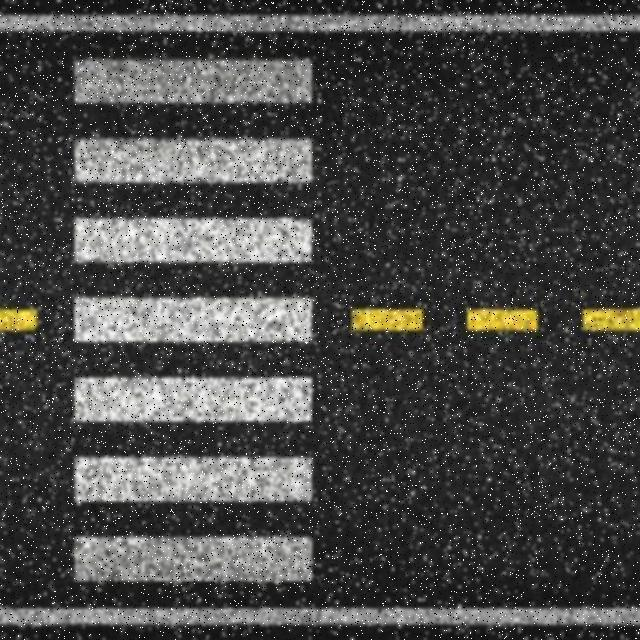crosswalk: (71, 60, 312, 587)
